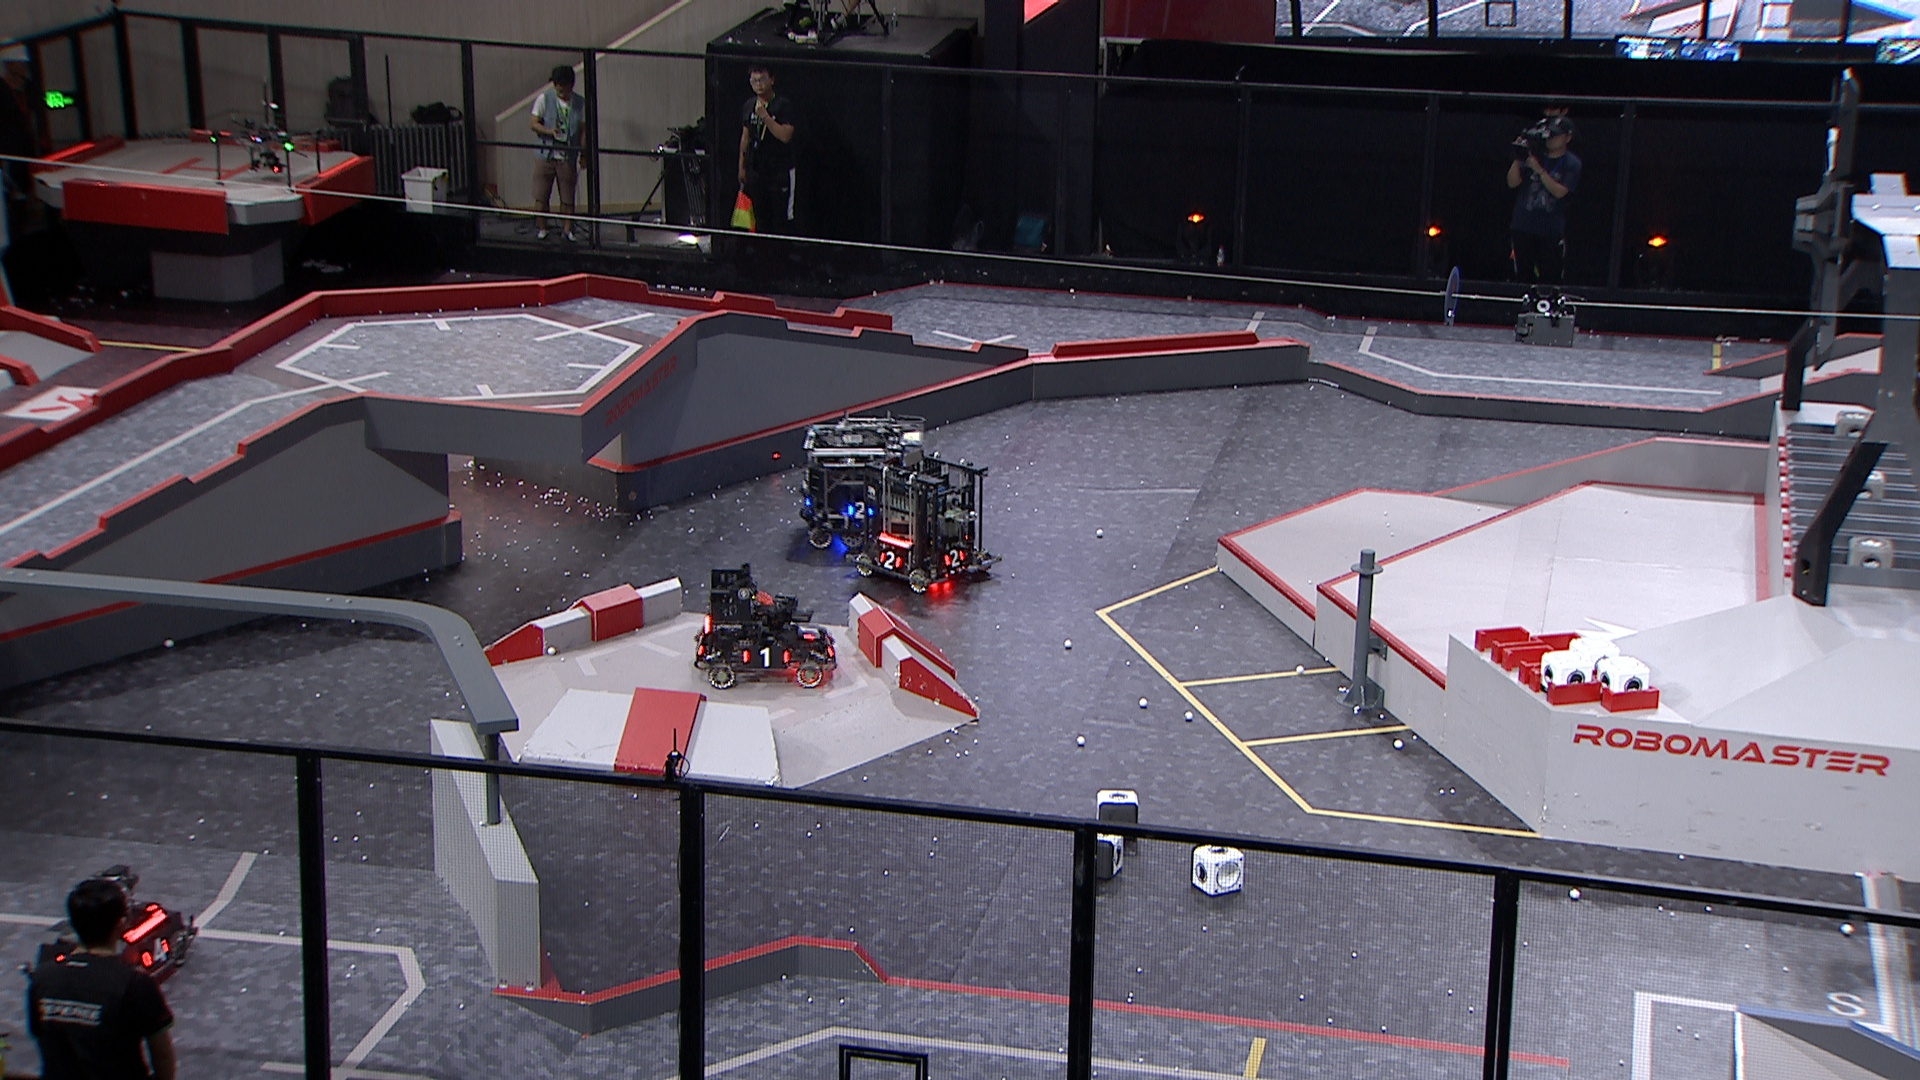armor: (142, 936, 171, 969), (746, 646, 785, 669), (942, 550, 965, 571), (877, 553, 901, 574), (844, 501, 870, 517), (798, 618, 816, 638), (694, 632, 705, 655)
car: (20, 865, 200, 994), (851, 447, 1000, 595), (794, 404, 930, 559), (692, 560, 836, 688)
